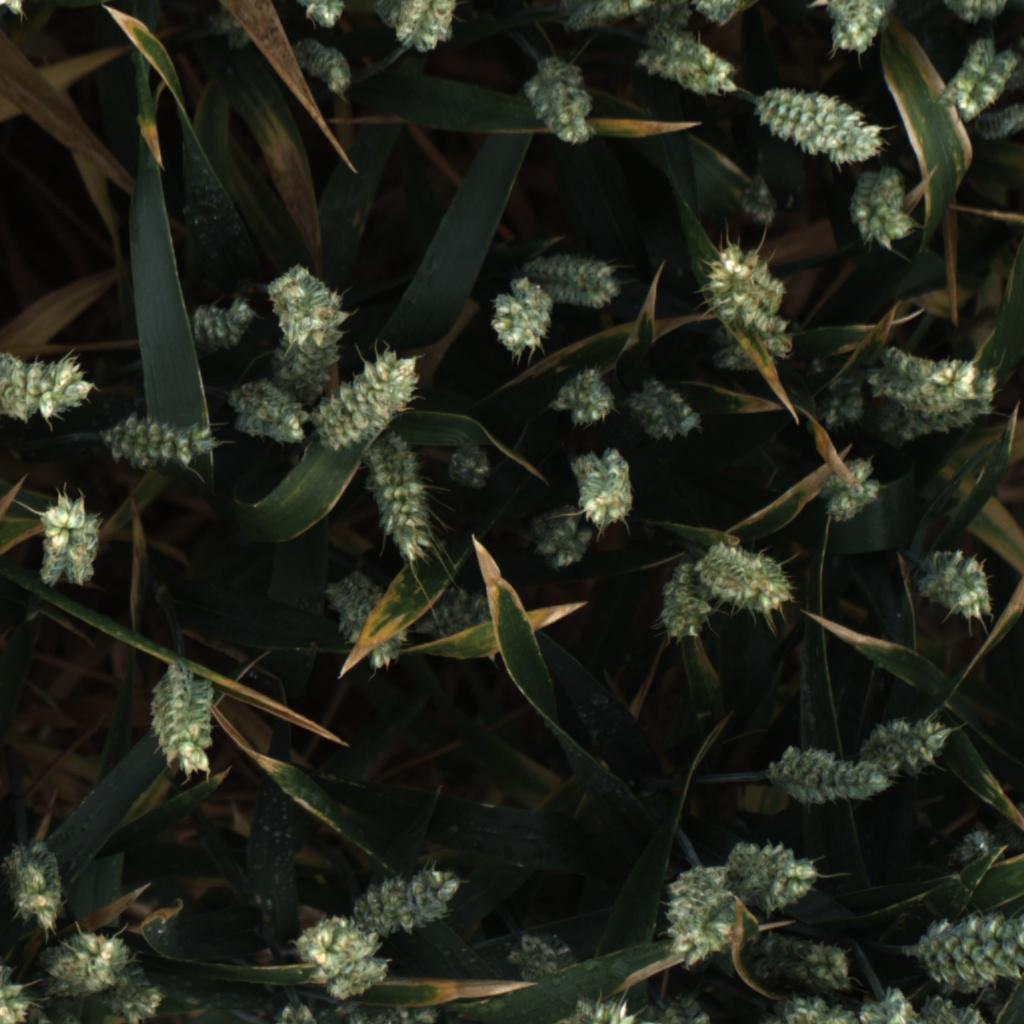0-0: (311, 342, 426, 452), (751, 86, 896, 170), (358, 422, 438, 563), (874, 363, 1004, 447), (343, 855, 469, 941), (287, 913, 395, 1007), (905, 902, 1024, 985), (657, 861, 745, 970), (147, 660, 222, 786), (320, 572, 409, 678), (859, 345, 988, 415), (770, 736, 892, 809), (842, 159, 929, 261), (105, 402, 222, 476), (701, 247, 795, 339), (30, 488, 109, 597), (699, 533, 804, 615), (518, 53, 602, 150), (408, 582, 503, 667), (914, 540, 1000, 631), (264, 260, 349, 350), (638, 26, 736, 102), (524, 249, 635, 316), (263, 322, 350, 407), (724, 837, 821, 913), (0, 344, 99, 418), (749, 936, 867, 997), (36, 929, 148, 993), (700, 307, 801, 376), (0, 838, 68, 935), (569, 443, 639, 537), (485, 274, 558, 364), (866, 710, 958, 781), (648, 557, 715, 648), (626, 371, 708, 444), (811, 458, 893, 528), (932, 28, 998, 114), (71, 971, 177, 1024), (526, 499, 599, 575), (508, 919, 592, 983), (816, 363, 888, 434), (959, 45, 1022, 126), (292, 30, 367, 98), (546, 360, 615, 433), (222, 376, 313, 430), (817, 0, 900, 59), (189, 296, 255, 360), (363, 0, 454, 46), (559, 987, 660, 1024), (395, 0, 461, 55), (556, 0, 651, 36), (440, 434, 498, 492), (228, 408, 310, 447), (629, 0, 709, 37), (756, 996, 861, 1024), (735, 167, 782, 229), (945, 826, 1002, 876), (854, 986, 927, 1024), (969, 95, 1024, 145), (641, 989, 717, 1024), (911, 994, 997, 1024), (0, 949, 34, 1024), (686, 0, 762, 28), (935, 0, 1019, 25), (280, 0, 353, 28), (267, 1007, 354, 1024), (18, 1006, 97, 1024), (1004, 791, 1024, 858), (997, 54, 1024, 102), (937, 977, 990, 998), (0, 0, 35, 24)
